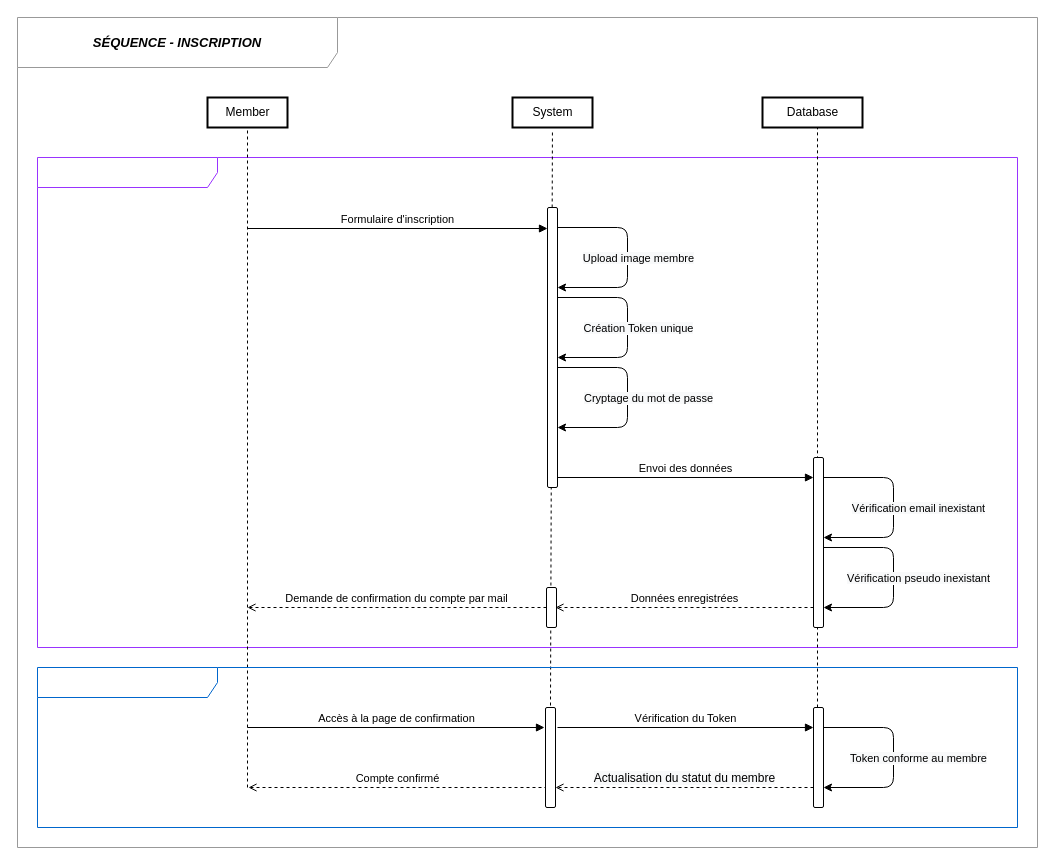
This 1055x865 diagram has some shape labels left out. The centre of each missing label's shape, as x and y in pixels:
"Confirmation" belongs at pixel 527 747.
"Inscription" belongs at pixel 527 402.
